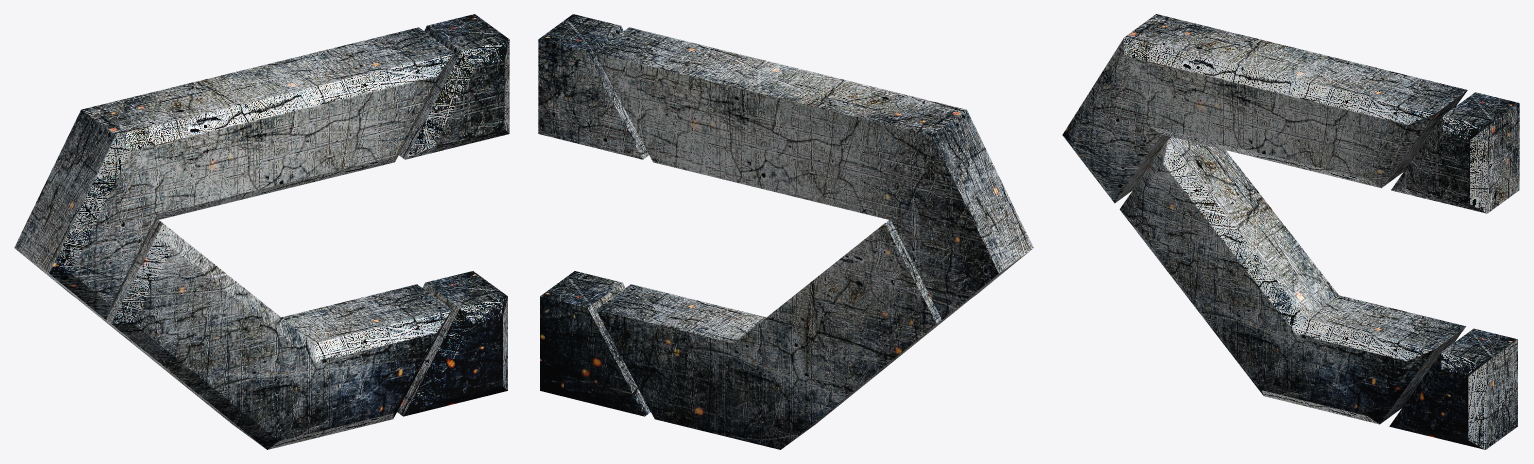
3 views of the same model, side by side, from view 1: azimuth 30°, elevation 25°; view 2: azimuth 150°, elevation 25°; view 3: azimuth 330°, elevation 25° (orthographic). The views are drawn at different scales.
Parts seen in each view (by area): view 1: C; view 2: C; view 3: C.
Part boxes in pixels (left/top/right/bottom): C: left=14, top=14, right=509, bottom=449; C: left=538, top=14, right=1033, bottom=449; C: left=1062, top=14, right=1519, bottom=449.
Size of the model in its own units: 76.21 by 55.59 by 12.
Materials: 1 (1 with a texture image).
